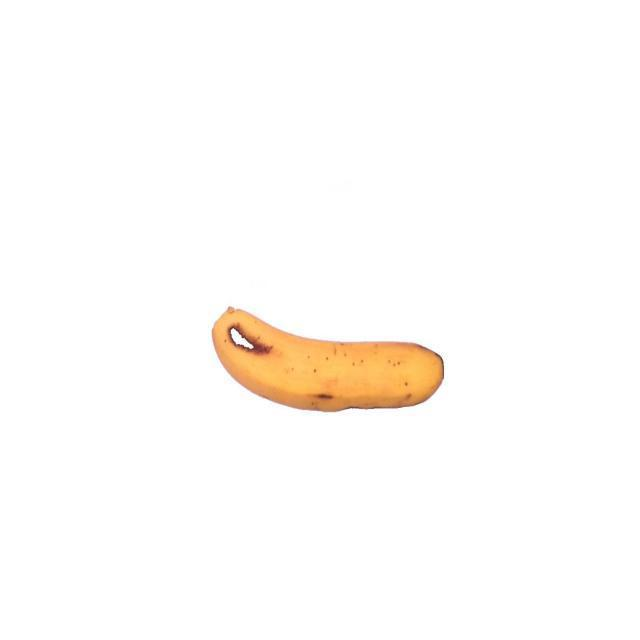Banana: (205, 298, 447, 422)
